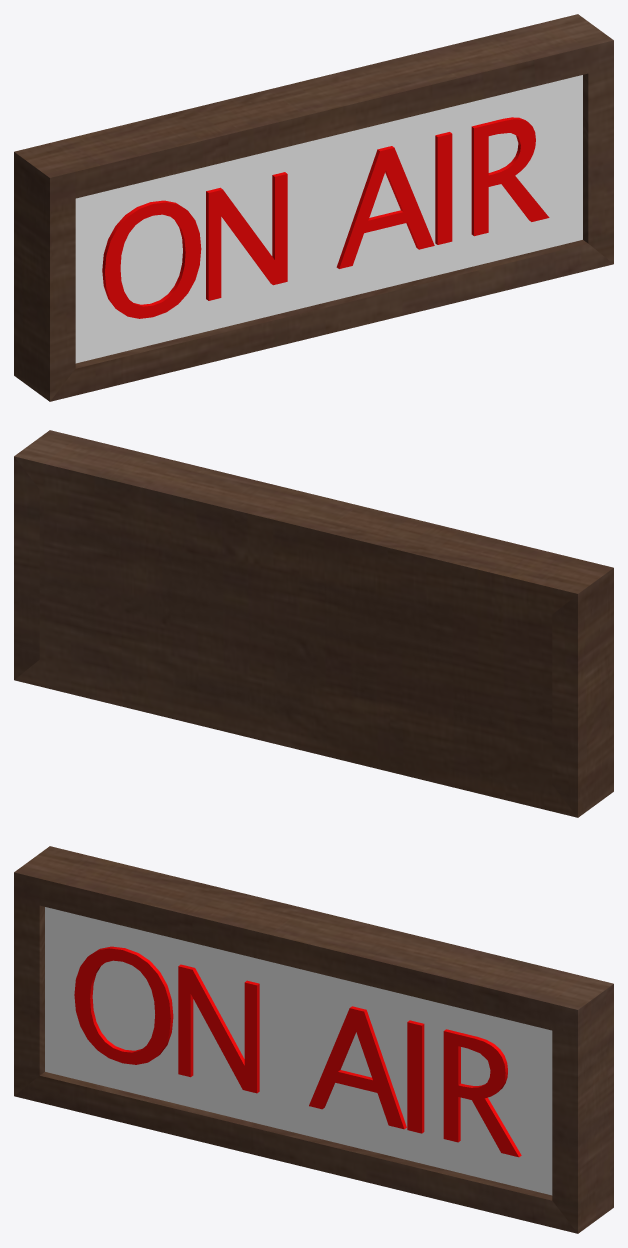
The model's file is onAirSign.fbx.
The picture shows the model from 3 angles, top to bottom: view 1: azimuth 30°, elevation 25°; view 2: azimuth 150°, elevation 25°; view 3: azimuth 330°, elevation 25°; orthographic projection.
Parts seen in each view (by area): view 1: pCube1, typeMesh1; view 2: pCube1; view 3: pCube1, typeMesh1.
Part boxes in pixels (x1,y1,x2,y2): pCube1: (14, 14, 613, 401); typeMesh1: (102, 117, 549, 318); pCube1: (14, 430, 613, 817); pCube1: (14, 846, 613, 1233); typeMesh1: (74, 946, 521, 1157).
Bounding box in the file's own units: 130 × 49.35 × 14.35.
Materials: 3 (1 with a texture image).
